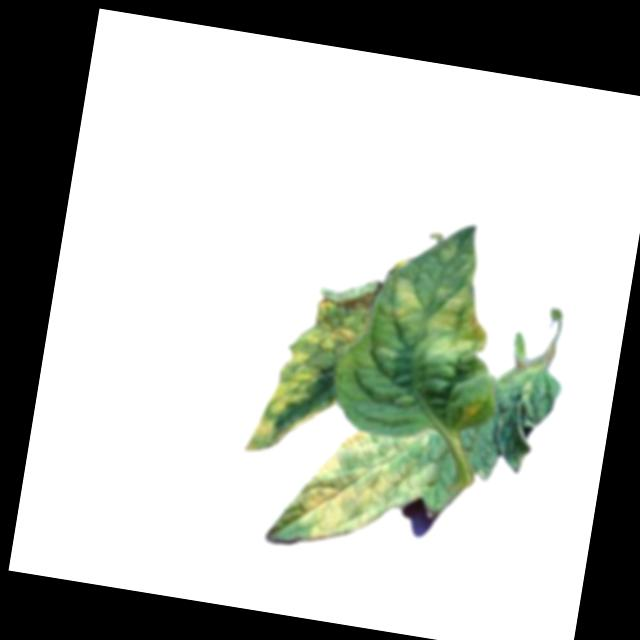Leaf_Mold: (243, 267, 376, 468), (272, 405, 435, 559), (419, 278, 496, 368), (376, 272, 428, 336)
